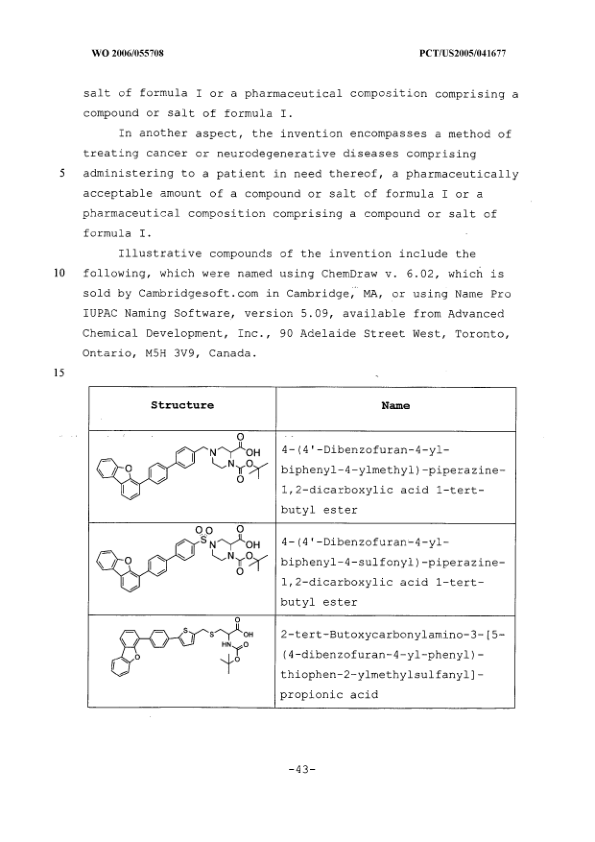compound-structure: (92, 430, 268, 507), (93, 523, 270, 599), (99, 618, 259, 684)
